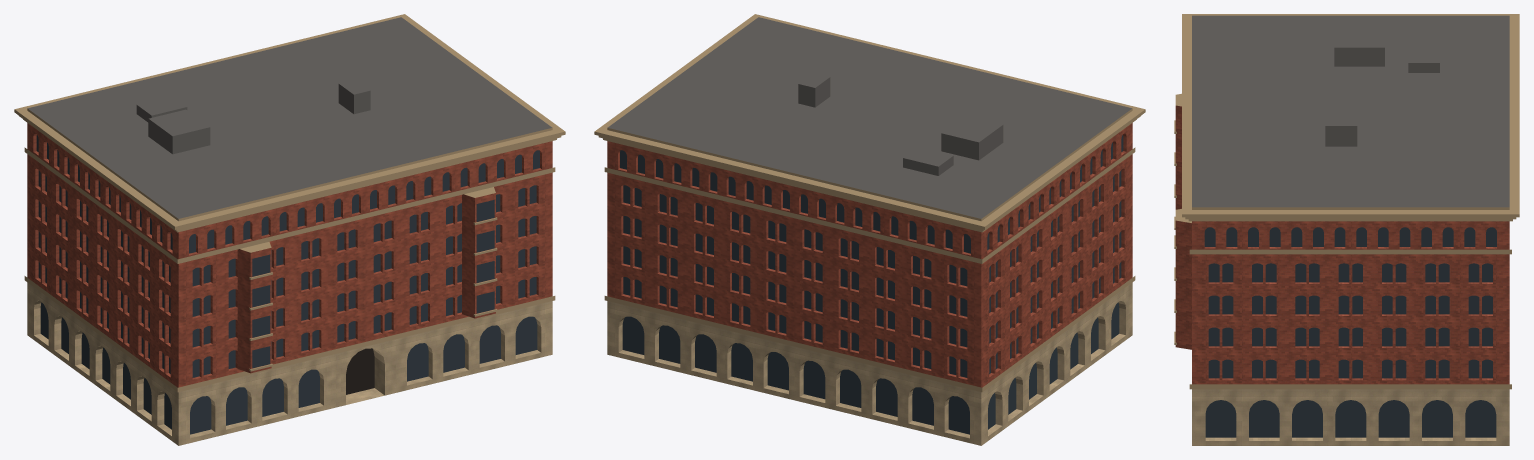
The model's file is pioneer_building.glb.
The picture shows the model from 3 angles, left to right: view 1: azimuth 30°, elevation 25°; view 2: azimuth 150°, elevation 25°; view 3: azimuth 270°, elevation 25°; orthographic projection. The views are drawn at different scales.
Parts seen in each view (by area): view 1: pioneer_building; view 2: pioneer_building; view 3: pioneer_building.
Part boxes in pixels (box(x1,y1,x2,y2)): pioneer_building: box(14, 14, 565, 445); pioneer_building: box(594, 14, 1145, 445); pioneer_building: box(1174, 14, 1519, 445).
Bounding box in the file's own units: 52.2 × 31.51 × 38.05.
Materials: 3 (3 with a texture image).
